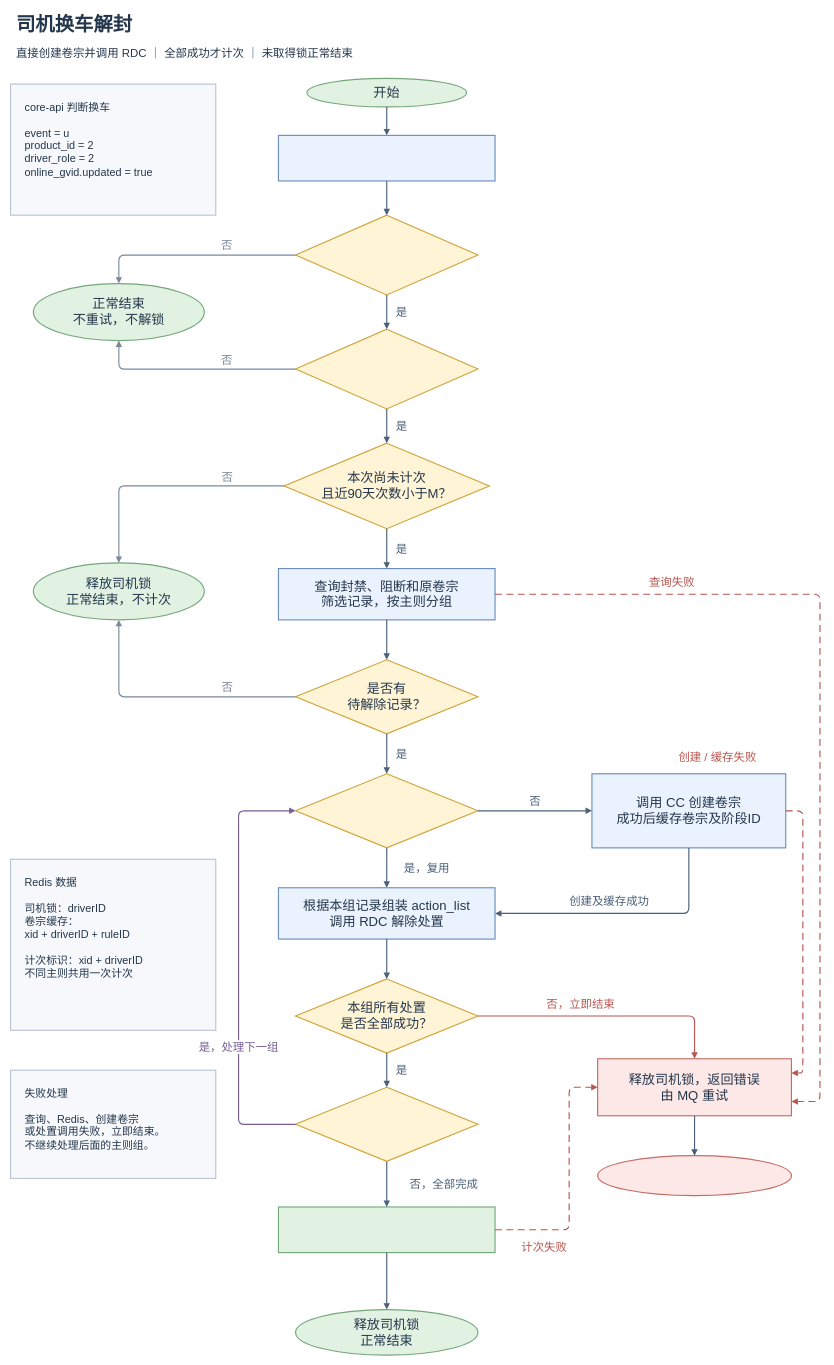
Some shapes in this 834 by 1365 pixel diagram are drawn without their labels. Here are the shapes that lost their labels. From the top down, the centre of each, then its label:
At pixel 386 158: "门神消费司机字段变更 MQ 传递 xid、司机ID和变更字段".
At pixel 386 254: "是否为有效 专快换车？".
At pixel 386 368: "是否取得 司机 Redis 锁？".
At pixel 386 810: "本组是否有 缓存的卷宗？".
At pixel 386 1124: "是否还有 其他主则组？".
At pixel 694 1175: "本次请求结束".
At pixel 386 1229: "全部主则组成功后 统一计1次（ZADD NX）".
